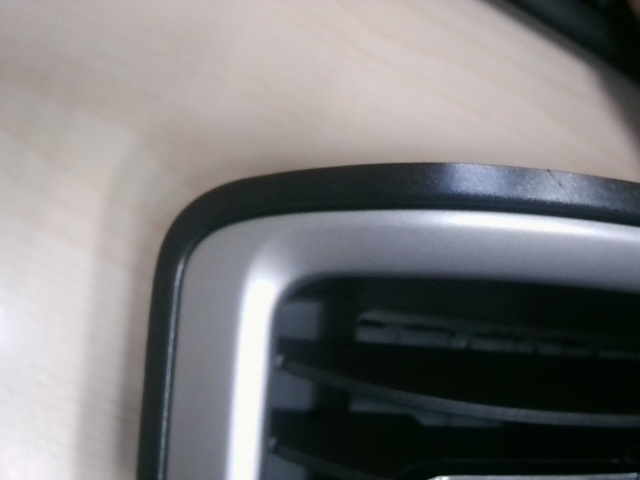NG: (536, 163, 577, 196)
